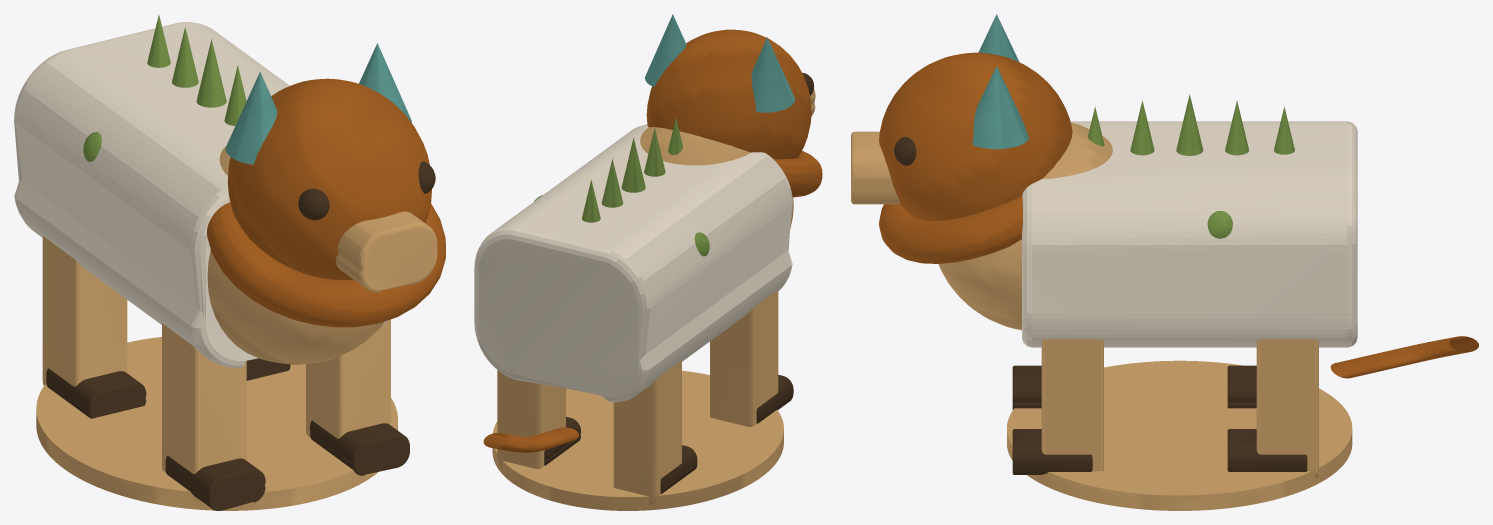
Rendered from 1288_爬行动物图鉴_鬃狮蜥.glb.
The picture shows the model from 3 angles, left to right: view 1: azimuth 30°, elevation 25°; view 2: azimuth 150°, elevation 25°; view 3: azimuth 270°, elevation 25°; orthographic projection. The views are drawn at different scales.
Parts seen in each view (by area): view 1: card_1288; view 2: card_1288; view 3: card_1288.
Boxes of the visible parts, x1,y1,x2,y2 form: card_1288: (14, 15, 445, 510); card_1288: (474, 14, 822, 510); card_1288: (851, 14, 1478, 510).
Size of the model in its own units: 0.7154 by 1 by 1.41.
